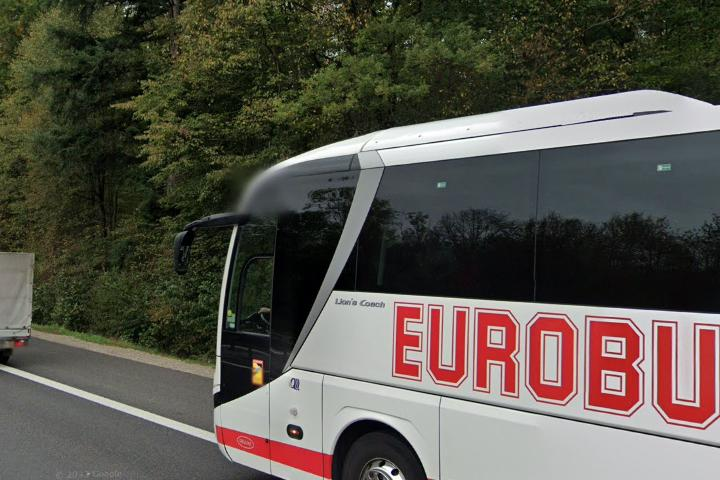vehicle: (172, 84, 720, 480)
